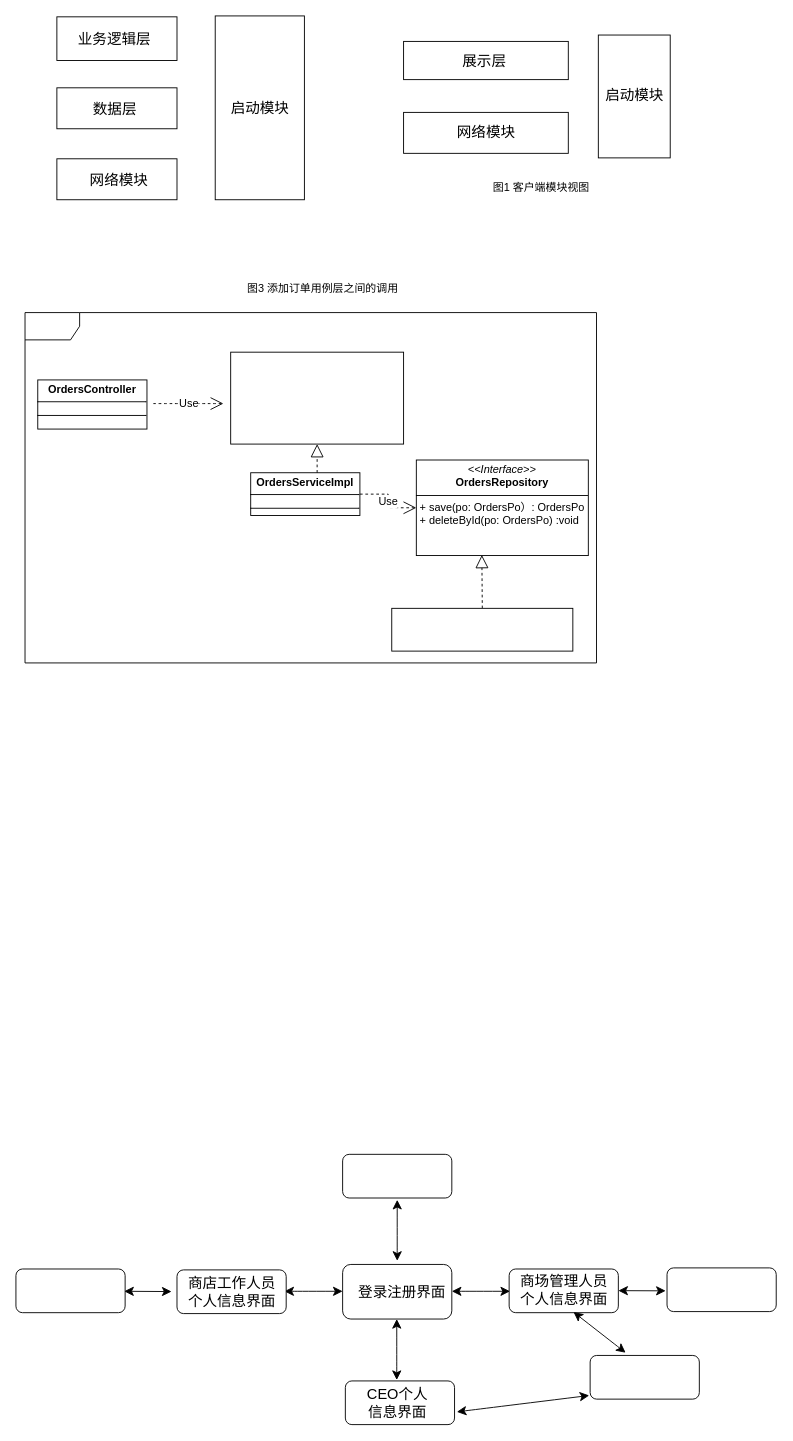
Some shapes in this 793 by 1441 pixel diagram are drawn without their labels. Here are the shapes that lost their labels. From the top down, the box of each, then its label:
(230, 351, 404, 444): <<Interface>> OrdersService + saveOrders: OrdersVo + deleteOrdersById: OrdersVo
(24, 312, 597, 663): pkg
(391, 607, 573, 651): OrdersRepositoryMySqlImpl
(342, 1153, 452, 1198): 顾客个人信息界面
(15, 1268, 125, 1313): 个人商店界面
(666, 1267, 776, 1312): 创建商店界面
(589, 1355, 699, 1399): 商场订单列表界面
